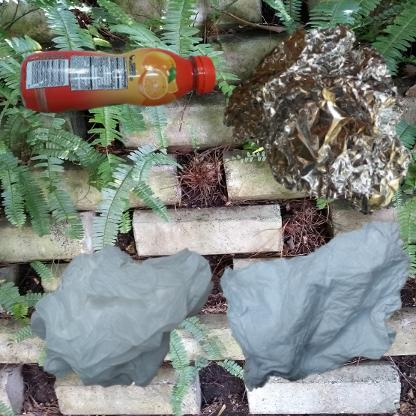aluminio: (213, 10, 416, 222)
bolsa: (10, 213, 269, 416)
botella: (10, 10, 252, 173)
papel: (213, 213, 416, 406)
